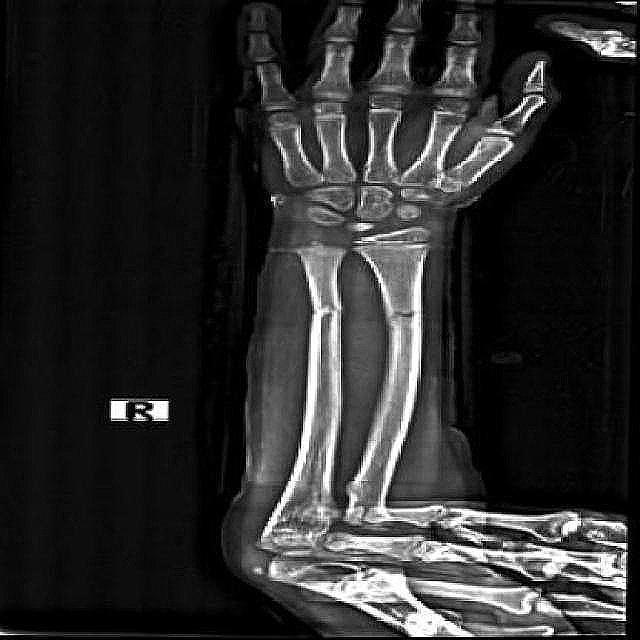bone: (306, 298, 346, 320), (386, 302, 423, 324)
